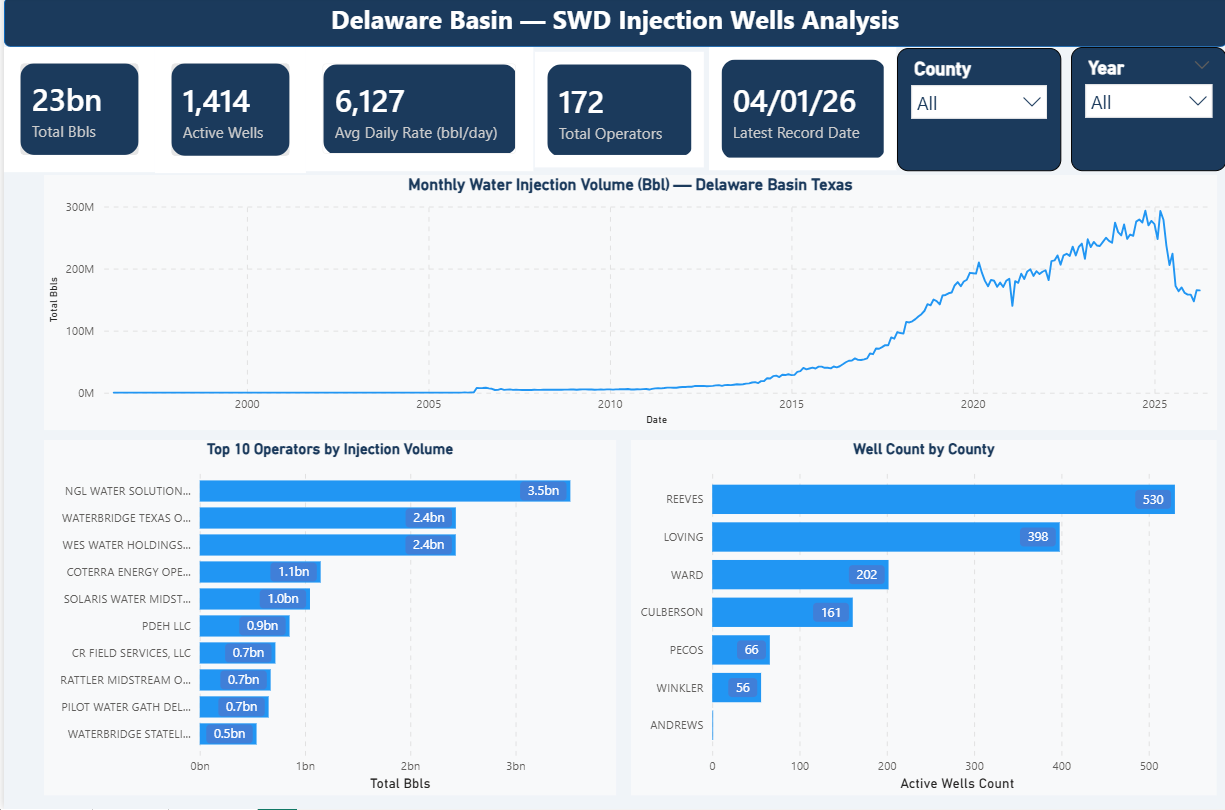

This screenshot's page, from the dashboard's own definition file:
{"tool":"powerbi","page":{"name":"Overview","canvas":[1280,850],"ordinal":0},"visuals":[{"type":"shape","box":[0,0,1280.2,52.3],"z":0},{"type":"cardVisual","fields":{"Data":["InjectionWells.Total Bbls"]},"box":[0,52.3,158.1,130.8],"z":1000},{"type":"cardVisual","fields":{"Data":["InjectionWells.Active Wells"]},"box":[158.1,52.3,158.1,131.9],"z":2000},{"type":"cardVisual","fields":{"Data":["InjectionWells.Avg Injection Rate"]},"box":[316.1,52.3,237.6,129.8],"z":3000},{"type":"lineChart","title":"Monthly Water Injection Volume (Bbl) — Delaware Basin Texas","fields":{"Y":["InjectionWells.Total Bbls"],"Category":["InjectionWells.MonthYr"]},"box":[41.5,186.2,1227.8,266.9],"z":4000},{"type":"cardVisual","fields":{"Data":["InjectionWells.Total Operators"]},"box":[550.6,52.3,187.4,131.9],"z":5000},{"type":"clusteredBarChart","title":"Top 10 Operators by Injection Volume","fields":{"Category":["InjectionWells.OperatorName"],"Y":["InjectionWells.Total Bbls"]},"box":[41.5,463.8,599.1,372.5],"z":6000},{"type":"slicer","fields":{"Values":["DateTable.Date.Variation.Date Hierarchy.Year"]},"box":[1116.9,52.3,163.3,129.8],"z":7000},{"type":"slicer","fields":{"Values":["InjectionWells.County"]},"box":[934.8,53.4,171.7,128.8],"z":8000},{"type":"clusteredBarChart","title":"Well Count by County","fields":{"Category":["InjectionWells.County"],"Y":["InjectionWells.Active Wells Count"]},"box":[656,463.8,613.3,372.5],"z":9000},{"type":"textbox","box":[323.8,0,632.5,52.5],"z":10000},{"type":"cardVisual","fields":{"Data":["Max(InjectionWells.MonthYr)"]},"box":[738,52.3,196.8,129.8],"z":11000}]}

Visuals, with their boxes in screenshot pixels (x1, y1, x2, y2), scaled from the page's 1280x850 canvas onto the 1225x810 screenshot:
shape: (0, 0, 1224, 50)
cardVisual - InjectionWells.Total Bbls: (0, 50, 151, 174)
cardVisual - InjectionWells.Active Wells: (151, 50, 303, 176)
cardVisual - InjectionWells.Avg Injection Rate: (303, 50, 530, 174)
"Monthly Water Injection Volume (Bbl) — Delaware Basin Texas" lineChart: (40, 177, 1215, 432)
cardVisual - InjectionWells.Total Operators: (527, 50, 706, 176)
"Top 10 Operators by Injection Volume" clusteredBarChart: (40, 442, 613, 797)
slicer - DateTable.Date.Variation.Date Hierarchy.Year: (1069, 50, 1224, 174)
slicer - InjectionWells.County: (895, 51, 1059, 174)
"Well Count by County" clusteredBarChart: (628, 442, 1215, 797)
textbox: (310, 0, 915, 50)
cardVisual - Max(InjectionWells.MonthYr): (706, 50, 895, 174)
